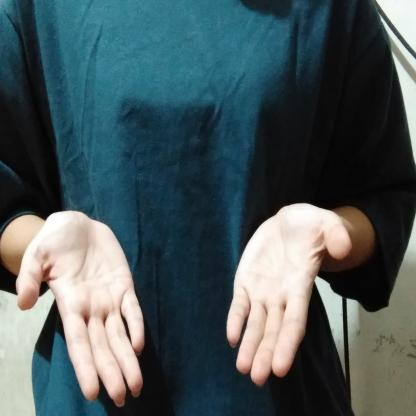what: (11, 196, 361, 412)
